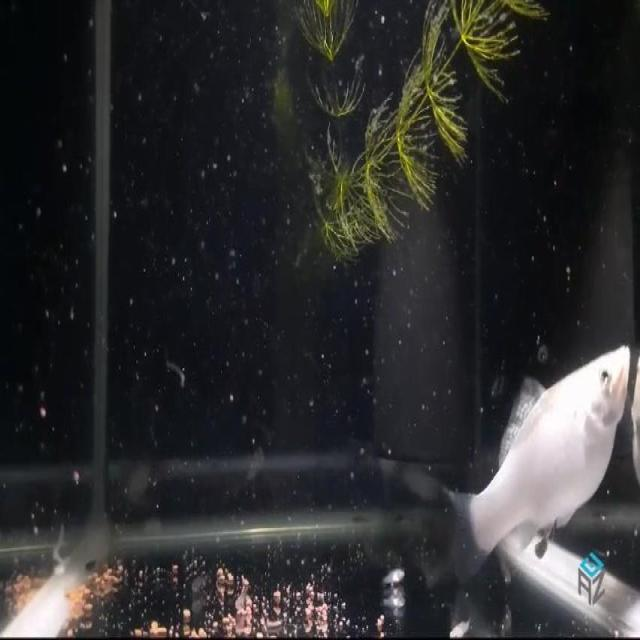PlatyFish: (432, 327, 632, 593)
